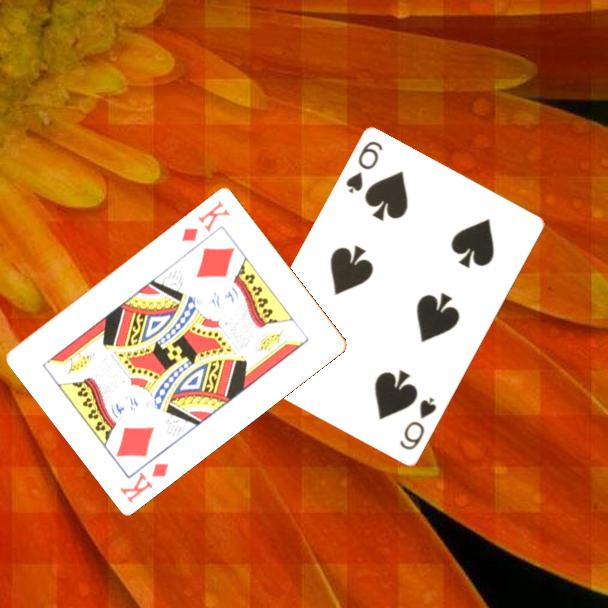d13: (178, 196, 234, 244), (116, 459, 172, 506)
s06: (396, 394, 440, 454), (342, 138, 386, 197)
